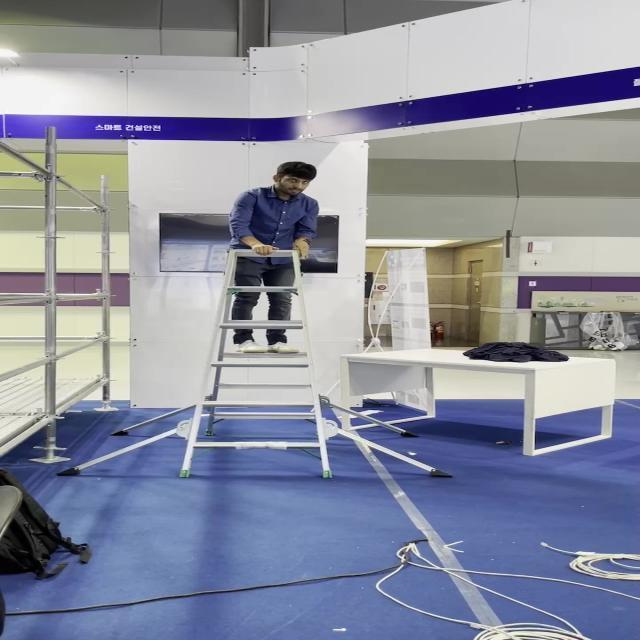boots: (44, 242, 454, 483)
vest: (225, 152, 323, 360)
